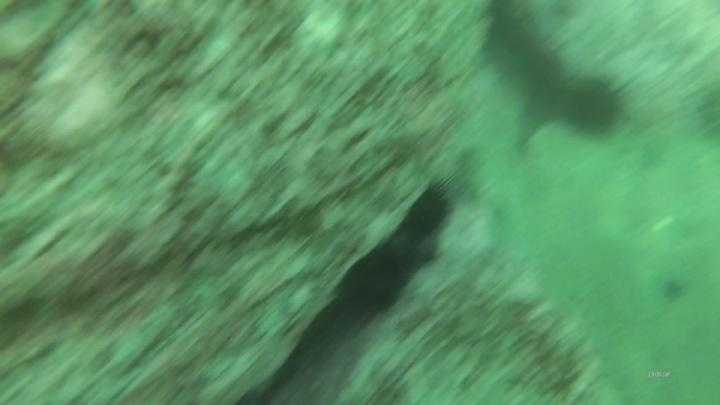echinus: (335, 240, 416, 322), (556, 69, 632, 141), (399, 178, 457, 244)
